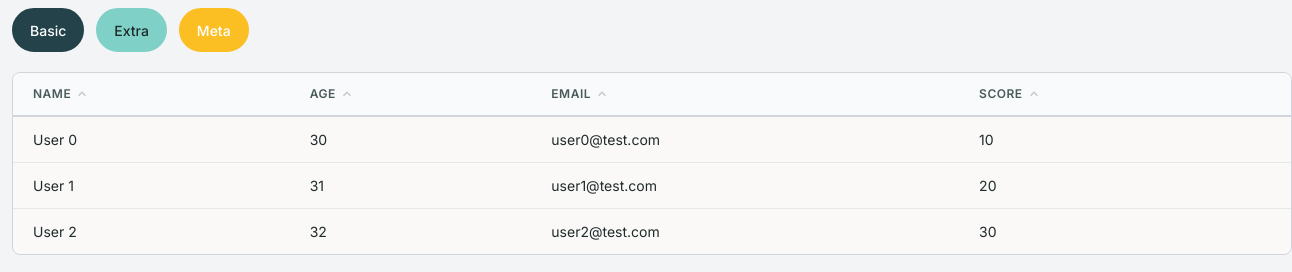
ConfigurableTable › column group toggling › hides columns when a non-required group is toggled off
This screenshot has width=1292, height=272.
Expected: the number of column headings with class "ct-th-sortable" is 4, [13,73,290,116]; [290,73,531,116]; [531,73,959,116]; [959,73,1251,116]
# Click 'extra' group (index 1) to toggle it off
Click the button with class "ct-chip" showing "Extra" at (132, 30), box [96,8,167,52]
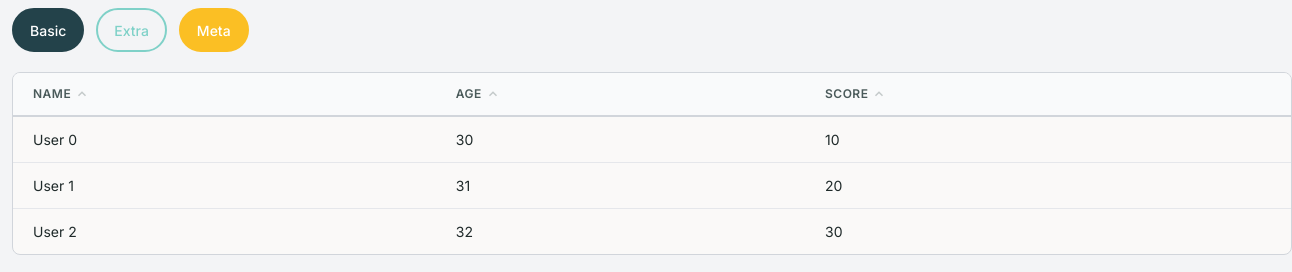
Now the number of column headings with class "ct-th-sortable" is 3, box [13,73,436,116]; [436,73,805,116]; [805,73,1251,116]
